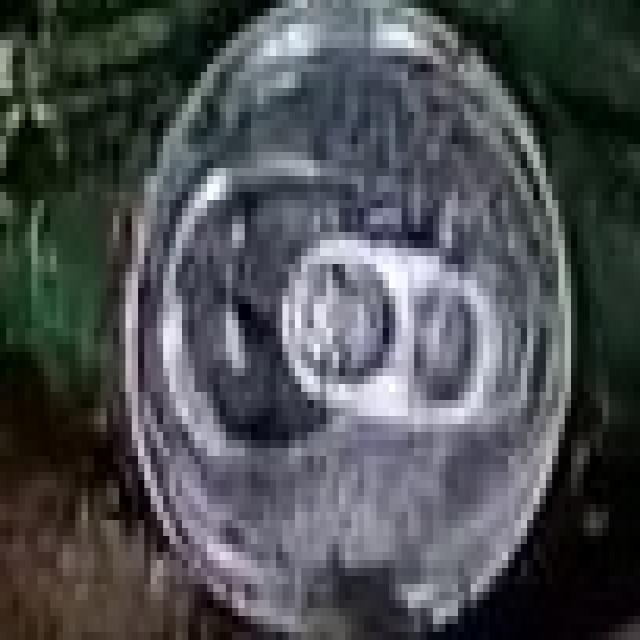litter: (131, 1, 573, 636)
